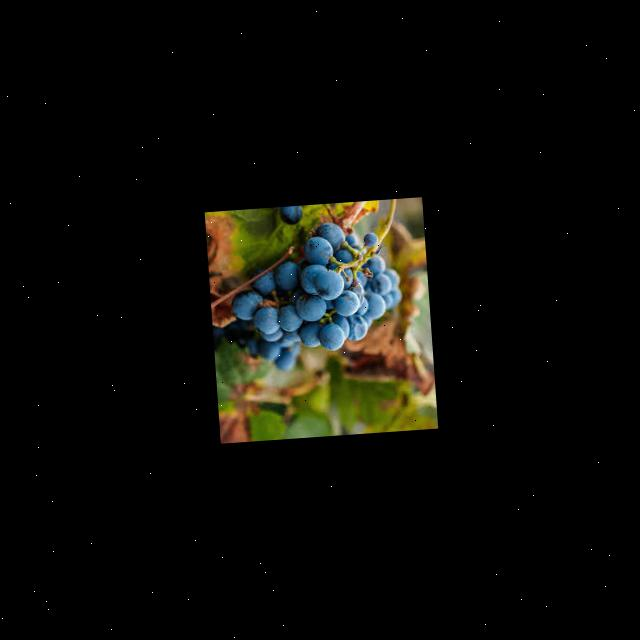grape: (224, 216, 406, 372)
